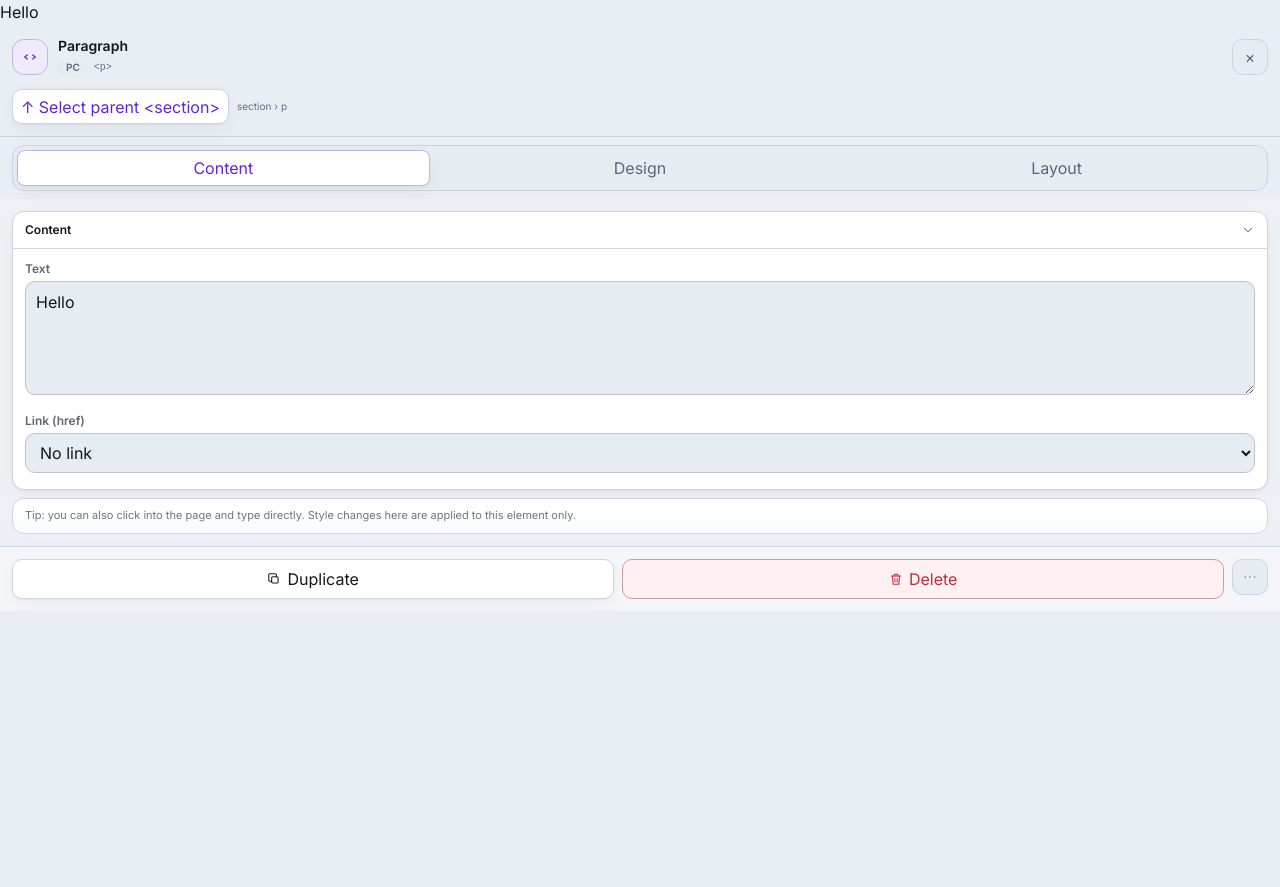
Test case: HtmlElementPanel › keeps every advanced field reachable through Content, Design and Layout tabs
Click the tab "Design". click: (640, 168)
box: [434,150,846,186]
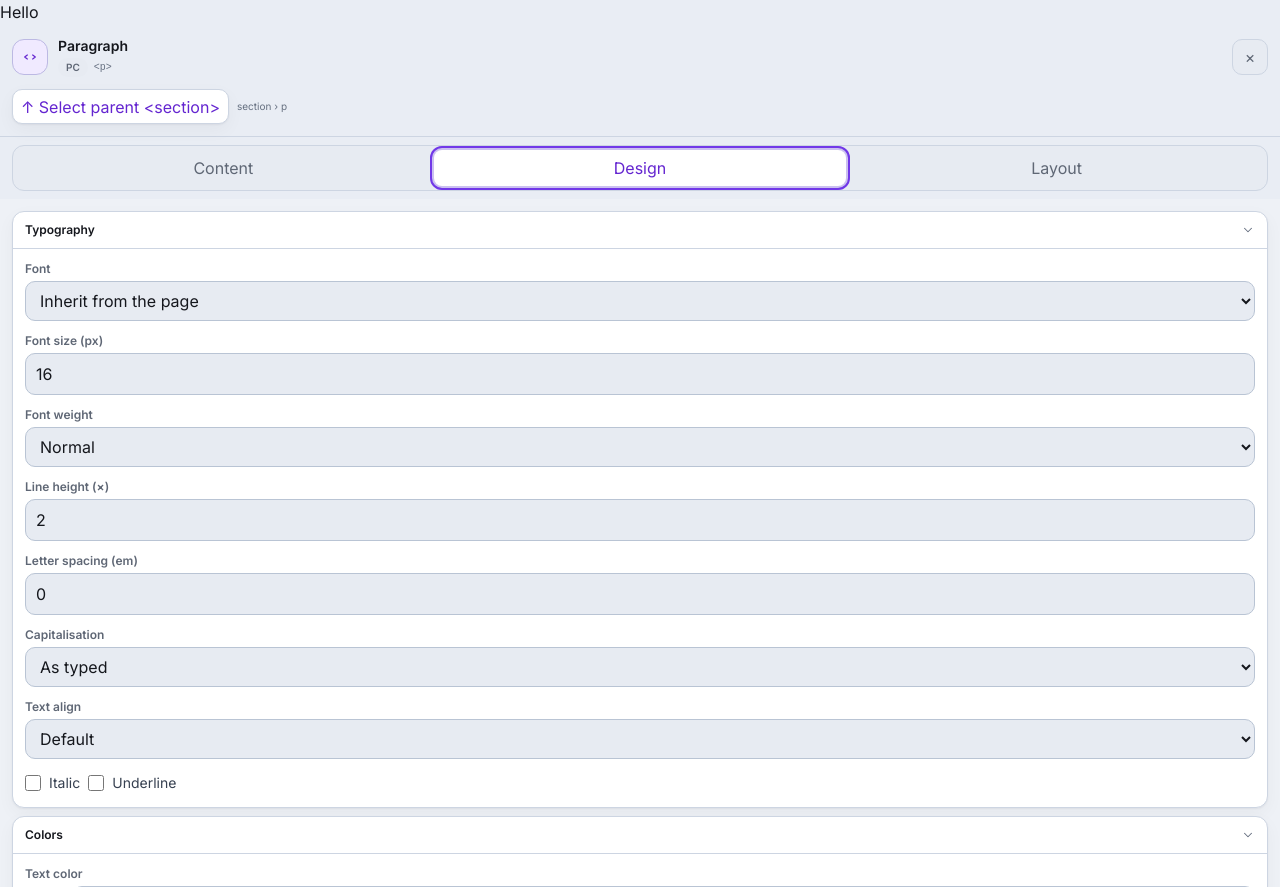
Expected: the button "Typography" is shown, [13,212,1267,248]
Click the tab "Layout". click: (1057, 168)
box: [850,150,1263,186]
(page scrolled)
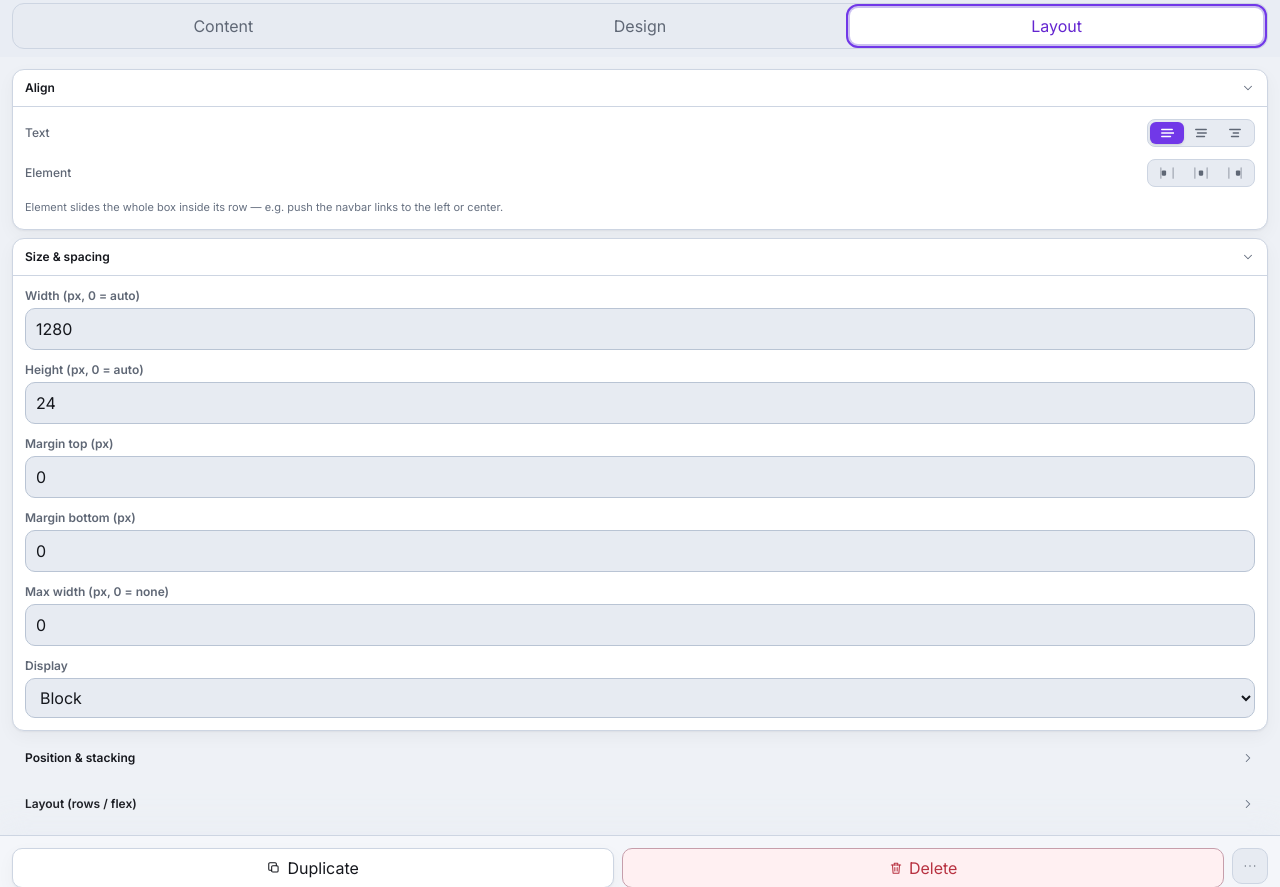
Expected: the button "Align" is shown, [13,70,1267,106]
Expected: the button "Size & spacing" is shown, [13,239,1267,275]
Expected: the button "Layout (rows / flex)" is shown, [13,786,1267,822]
